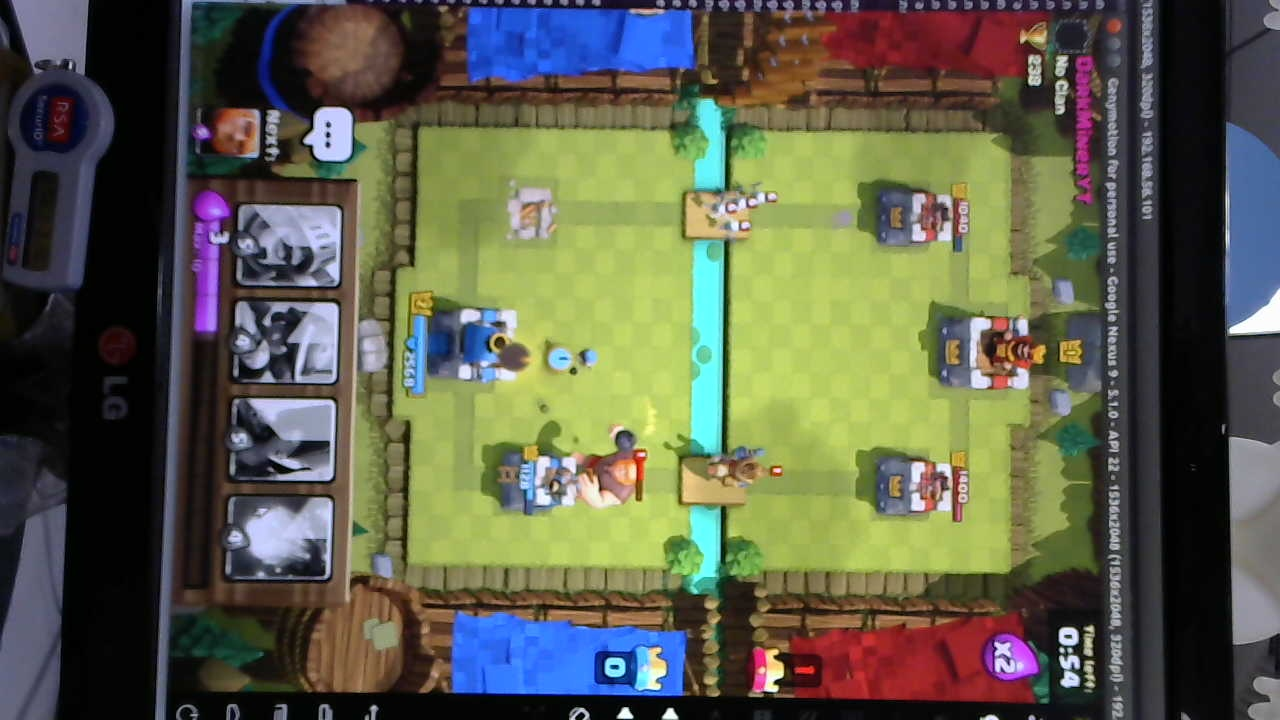arena: (498, 444, 582, 517)
bomb: (569, 344, 604, 378)
darena: (508, 182, 558, 246)
earena: (875, 453, 954, 521), (875, 185, 957, 250)
eking: (936, 311, 1040, 393)
giant: (576, 438, 642, 512)
king: (421, 306, 521, 384)
prince: (704, 445, 775, 491)
